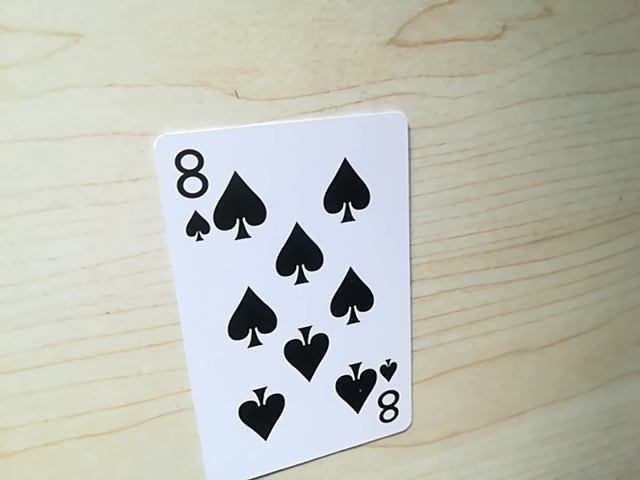ht 8: (162, 135, 219, 244), (366, 364, 405, 434)
